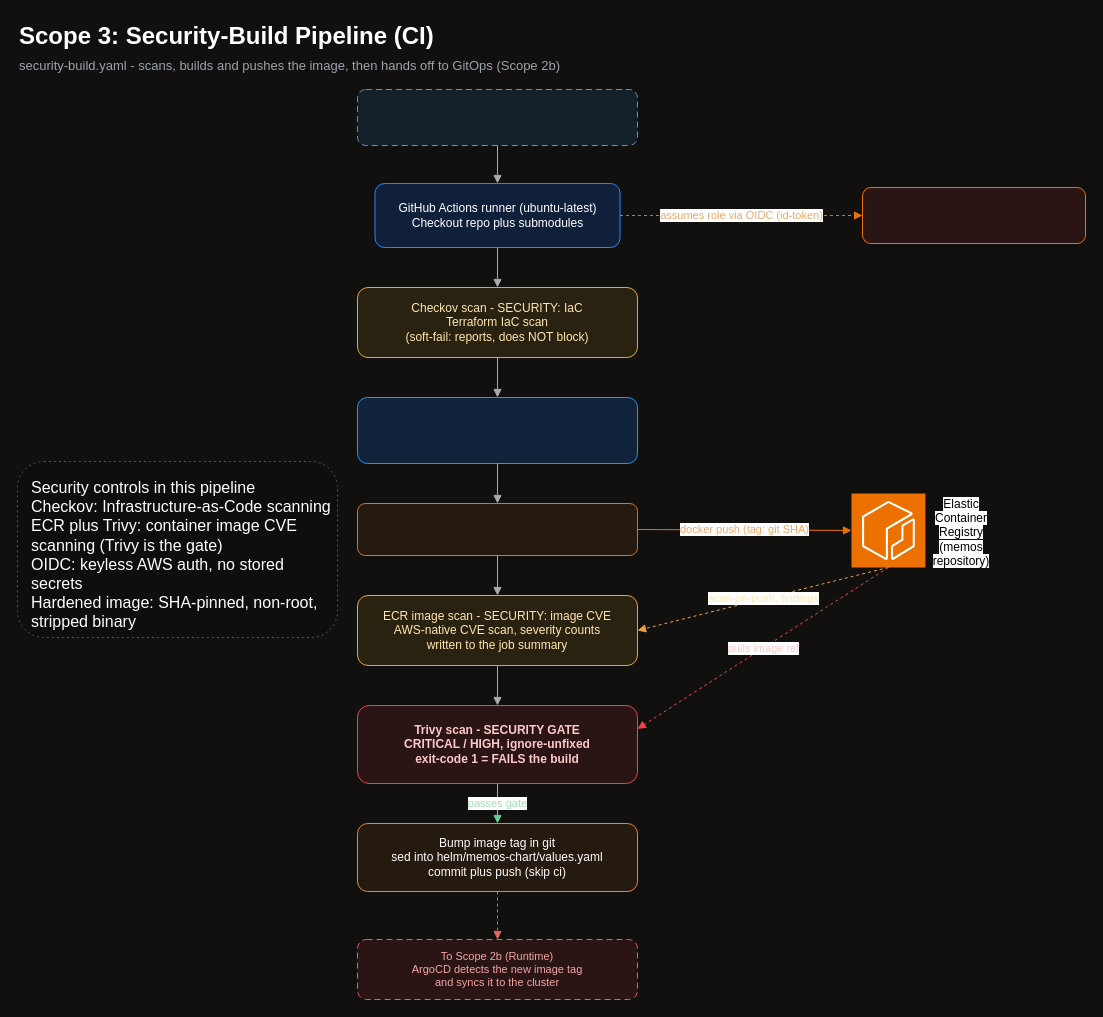
This 1103x1017 diagram has some shape labels left out. Each missing label, with the centre of its shape:
"AWS IAM role: memos_github_role assumed via OIDC - no static credentials" goes at [974,215].
"docker build plus tag = git SHA multi-stage, SHA-pinned base, non-root user" goes at [497,430].
"Push image to Amazon ECR" goes at [497,529].
"Trigger push to app or Dockerfile paths (or manual workflow_dispatch)" goes at [497,117].
